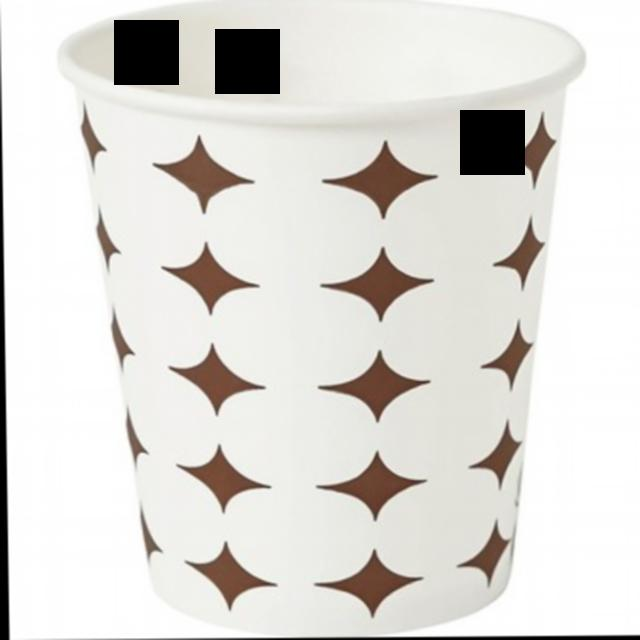karton-bardak: (45, 0, 621, 626)
